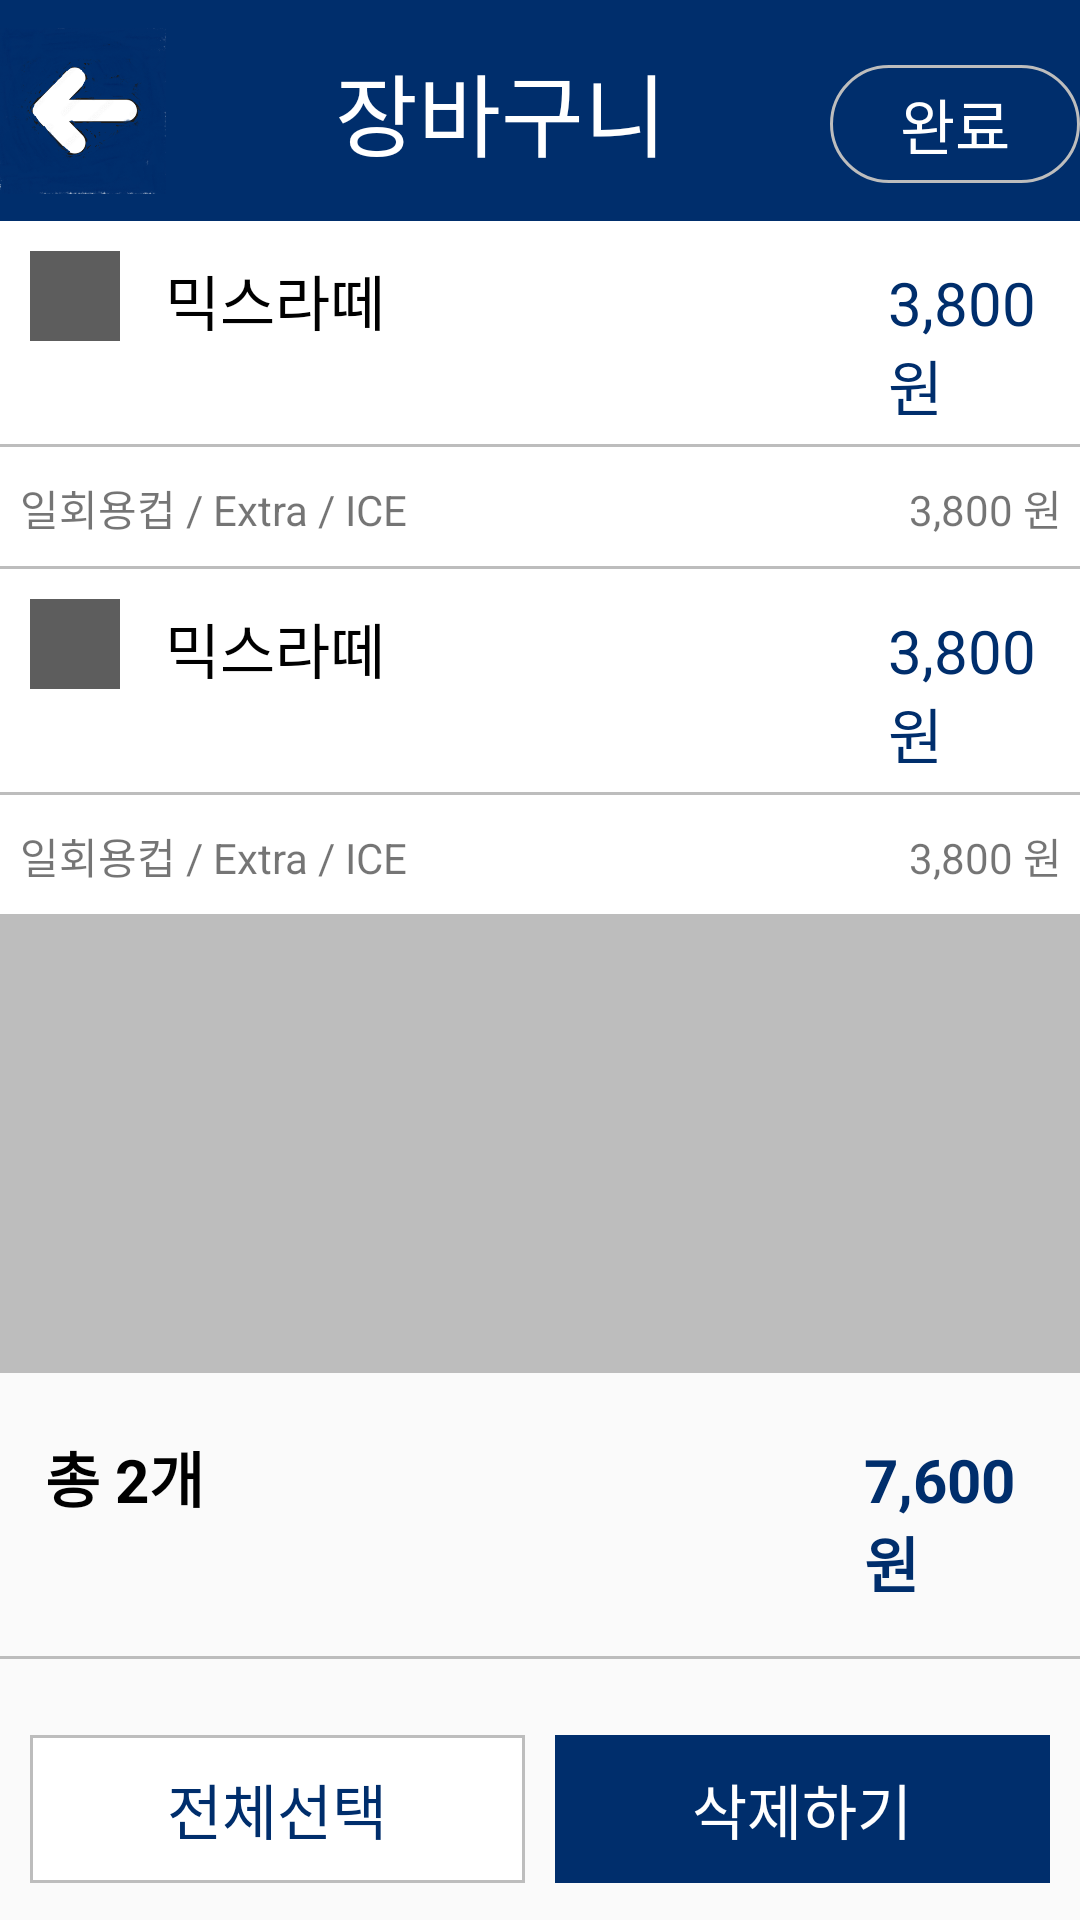

Where to tap for icons on this 1080x1920 app screen, as point (x, y):
backbutton: point (83, 115)
